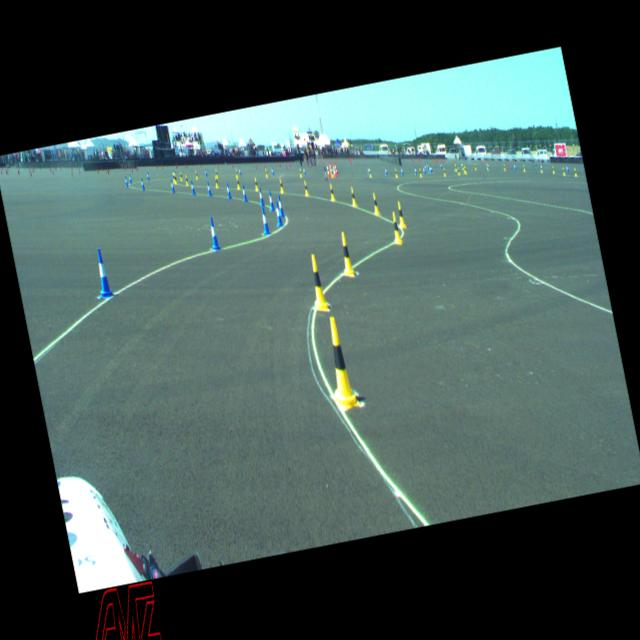blue_cone: (91, 248, 115, 300), (206, 216, 222, 252), (260, 206, 270, 235), (274, 200, 284, 227), (277, 195, 285, 218), (268, 190, 276, 211), (258, 188, 265, 206), (241, 184, 248, 202), (226, 182, 232, 198), (206, 182, 212, 196), (190, 180, 196, 194), (170, 180, 176, 192), (141, 178, 145, 190), (384, 167, 388, 176), (125, 176, 128, 187), (129, 174, 132, 184), (238, 168, 242, 175), (428, 166, 432, 173), (401, 166, 404, 175), (423, 166, 426, 174), (147, 172, 150, 180), (205, 168, 208, 176), (566, 165, 569, 172), (303, 168, 306, 175), (414, 167, 417, 174), (272, 167, 274, 176), (430, 165, 432, 173), (424, 164, 426, 171), (426, 163, 428, 170), (514, 163, 516, 170), (440, 163, 442, 169)
large_orange_cone: (332, 162, 337, 178), (326, 163, 330, 177)
yellow_cone: (318, 315, 361, 411), (306, 254, 330, 313), (337, 231, 356, 277), (389, 212, 403, 245), (396, 200, 406, 230), (371, 192, 380, 215), (349, 187, 357, 207), (328, 183, 336, 201), (303, 180, 309, 196), (234, 174, 240, 190), (278, 178, 284, 194), (184, 174, 190, 186), (214, 176, 219, 189), (254, 177, 258, 191), (419, 168, 423, 178), (298, 168, 302, 178), (194, 170, 198, 180), (394, 168, 398, 178), (179, 172, 183, 182), (442, 168, 447, 176), (368, 168, 372, 178), (174, 174, 178, 184), (562, 167, 566, 176), (264, 169, 268, 178), (574, 168, 578, 176), (214, 170, 218, 178), (454, 164, 458, 172), (457, 167, 460, 176), (523, 164, 526, 172), (503, 163, 506, 170), (486, 163, 489, 170), (235, 168, 238, 174), (474, 163, 476, 170), (552, 166, 554, 173)
